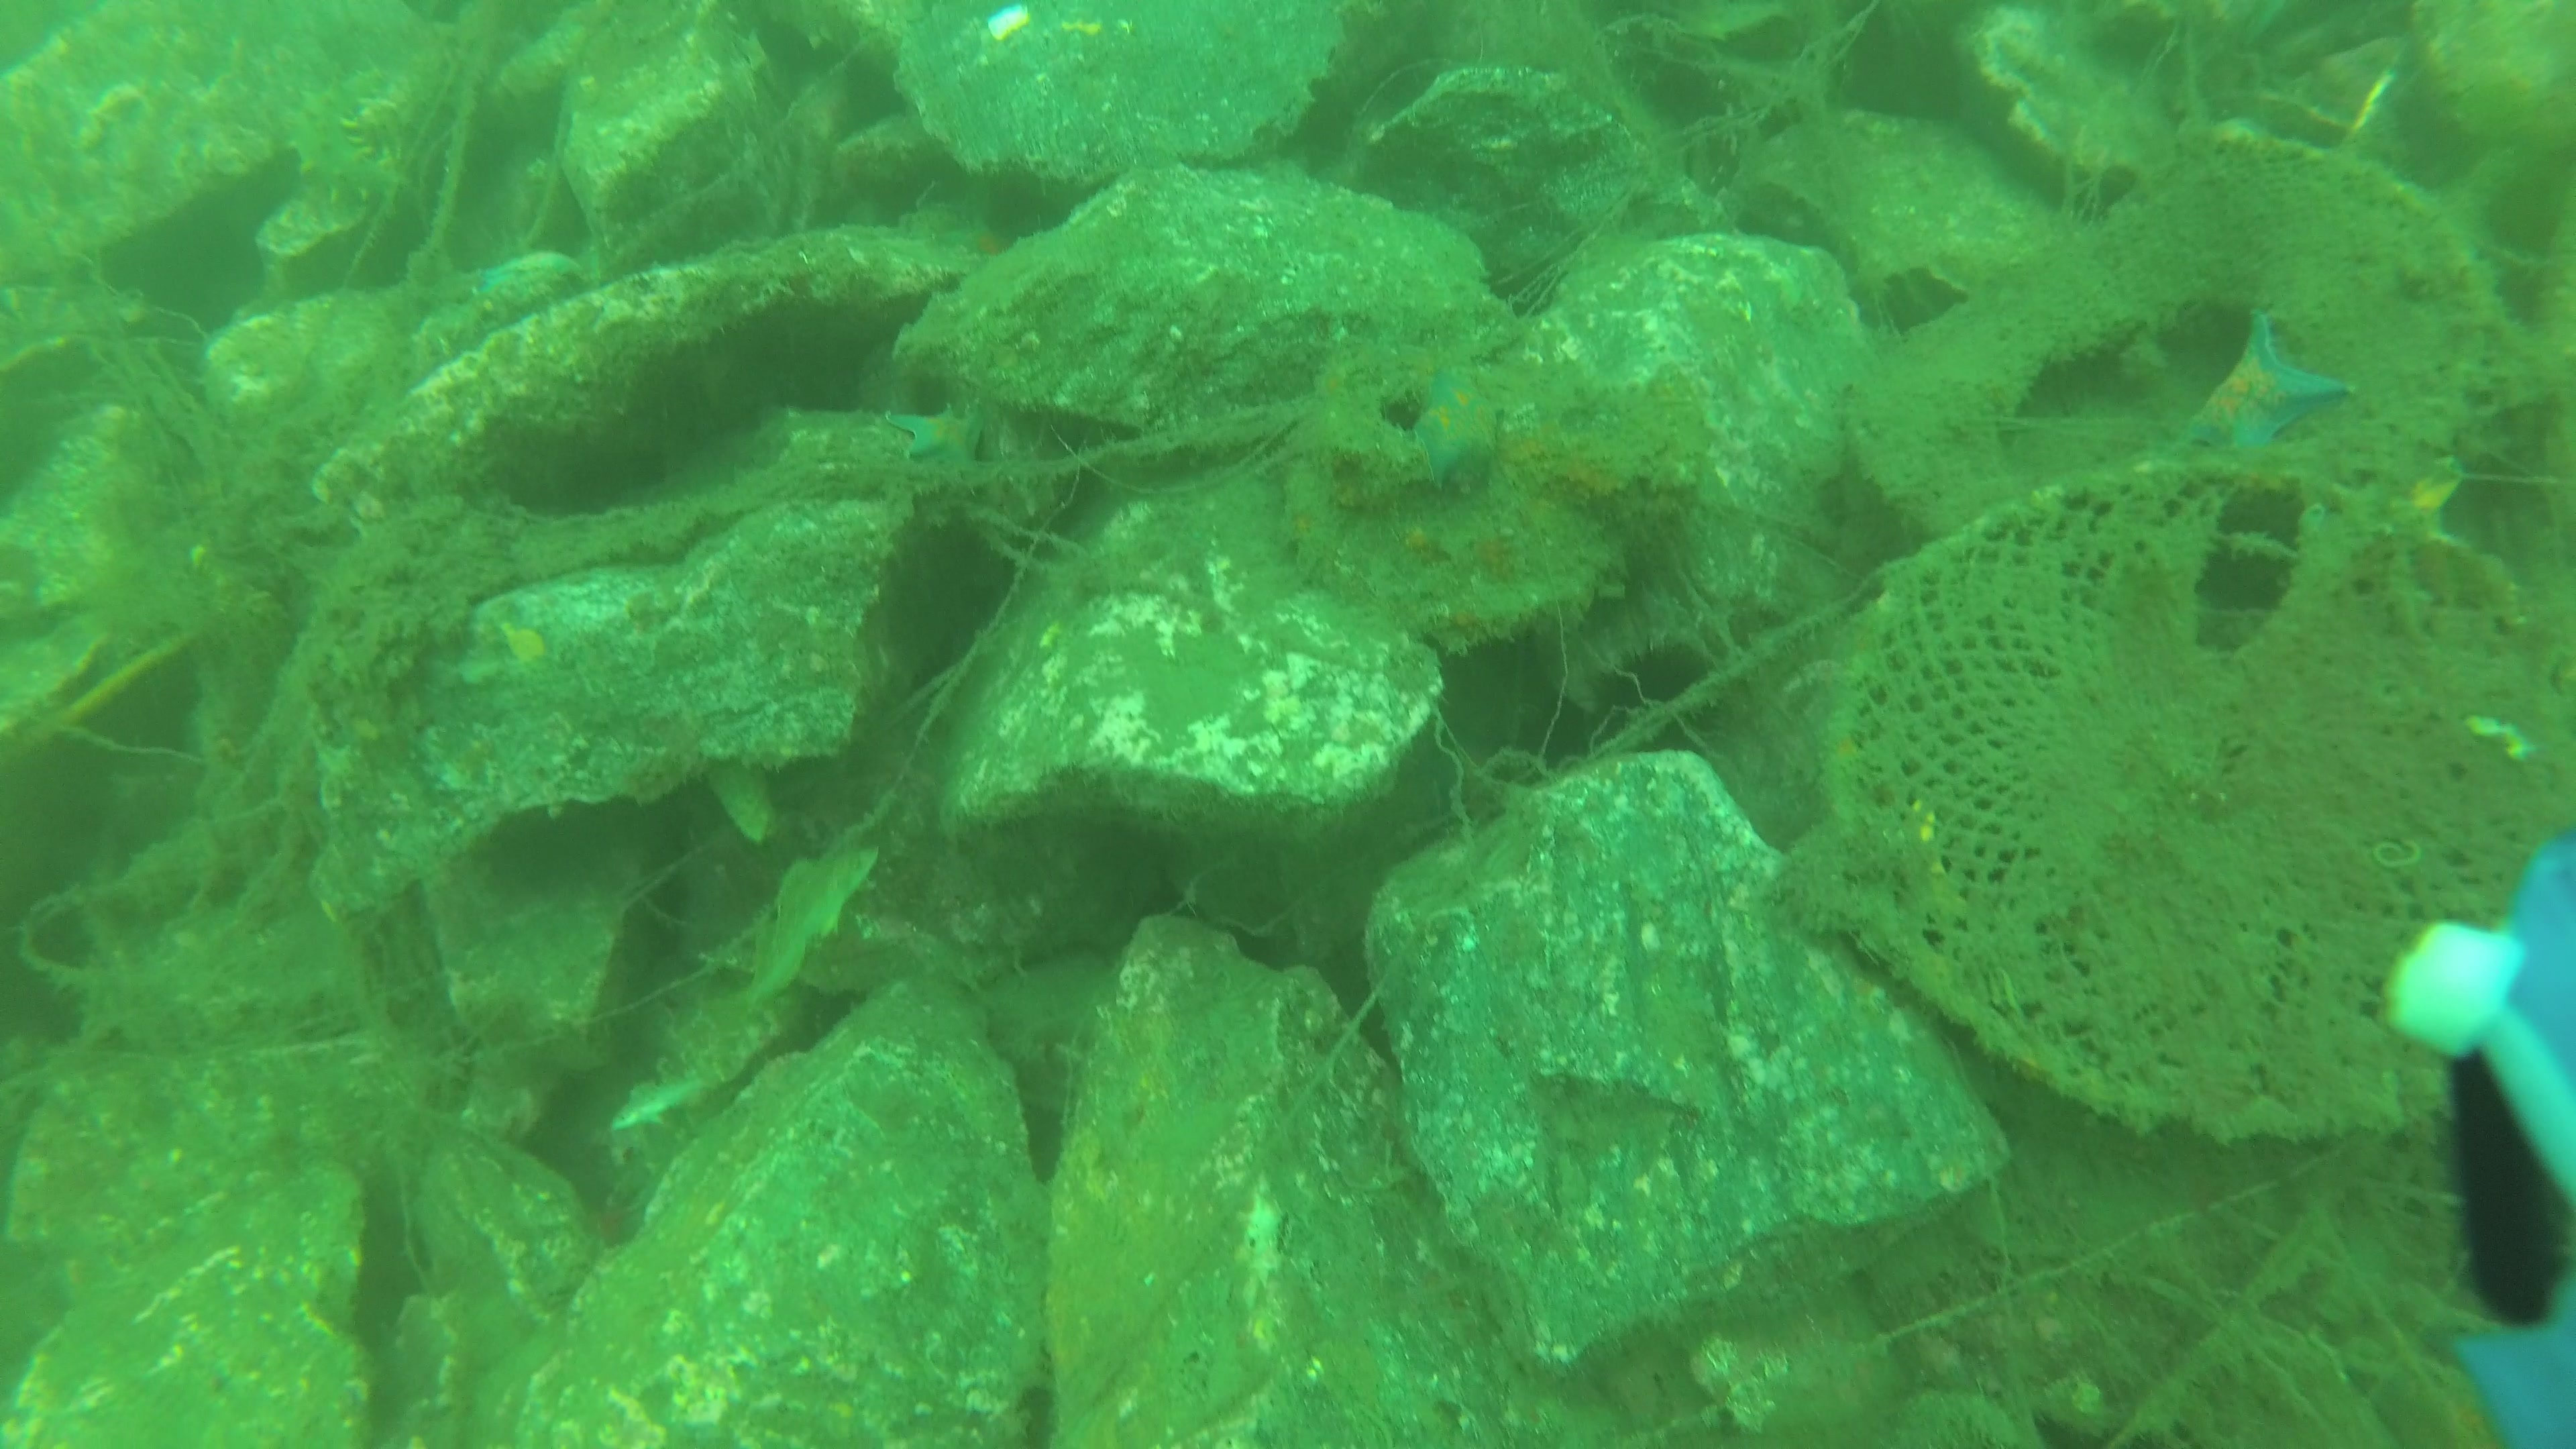holothurian: (280, 57, 403, 211)
starfish: (2178, 303, 2357, 469), (1408, 363, 1504, 497), (883, 396, 991, 471), (474, 248, 589, 304), (931, 207, 1021, 265)
